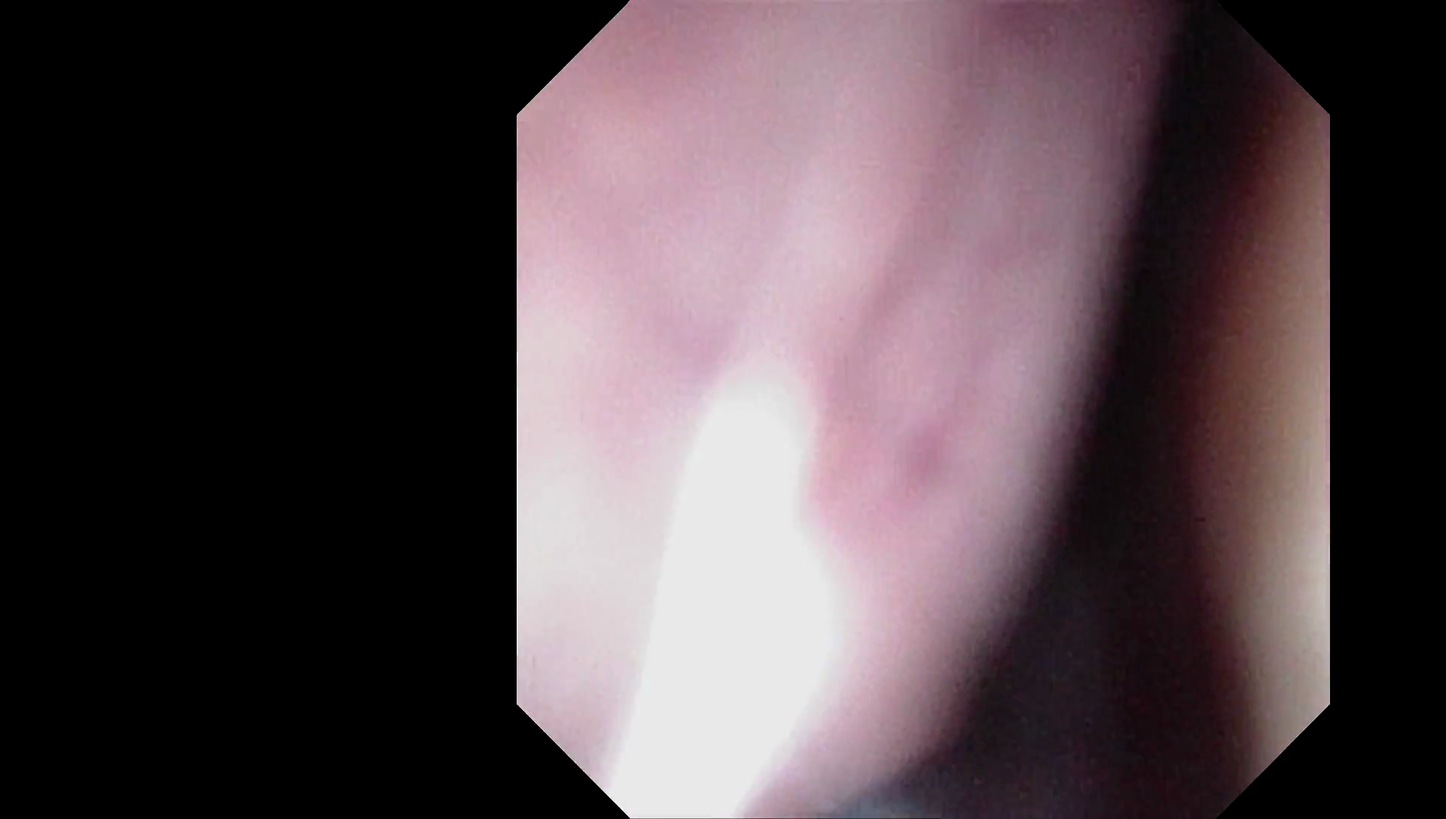close_wall: (544, 129, 995, 721)
next: (925, 456, 1267, 769), (1090, 28, 1260, 465)
